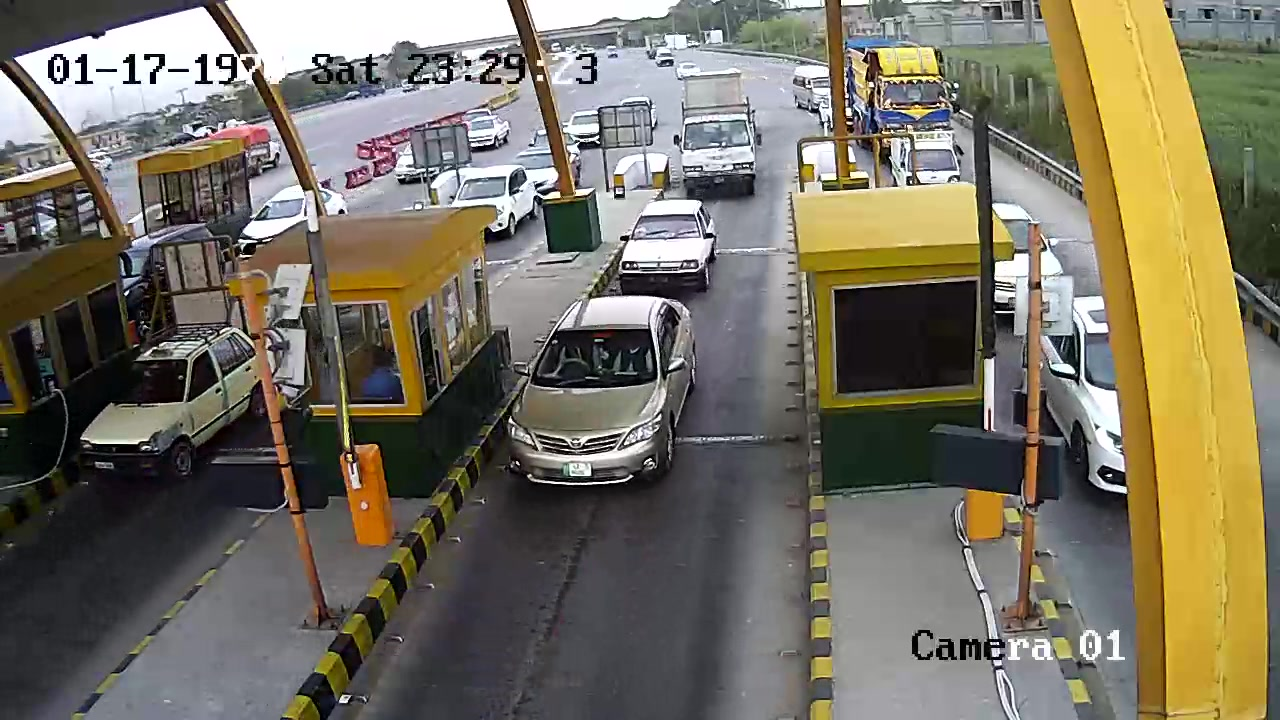F1: (501, 289, 712, 525), (610, 199, 727, 291)
